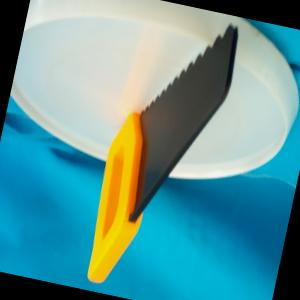serrote: (79, 1, 243, 300)
